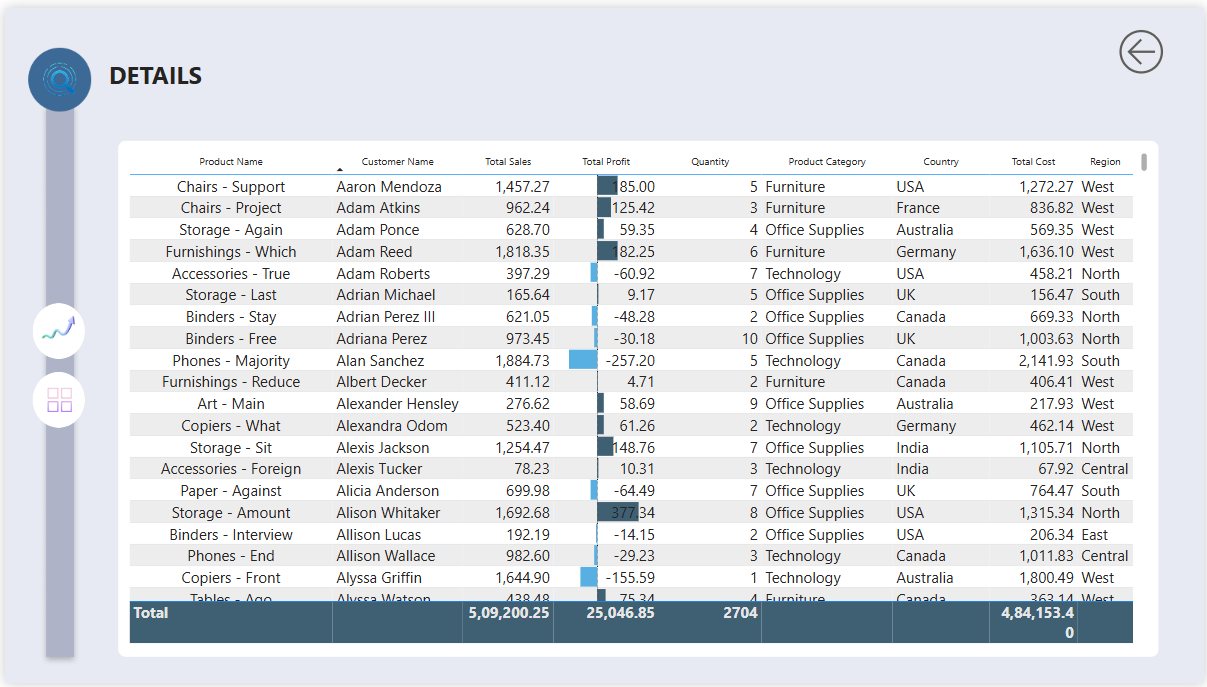

The page's visual inventory and layout, read from the dashboard file:
{"tool":"powerbi","page":{"name":"Details","canvas":[1600,900],"ordinal":3},"visuals":[{"type":"tableEx","fields":{"Values":["large_sample_sales_data.Product Name","large_sample_sales_data.Customer Name","large_sample_sales_data.Total Sales","large_sample_sales_data.Total Profit","Sum(large_sample_sales_data.Quantity)","large_sample_sales_data.Product Category","large_sample_sales_data.Country","large_sample_sales_data.Total Cost","large_sample_sales_data.Region"]},"box":[160,188.3,1368.3,663.3],"z":0},{"type":"shape","box":[36.7,393.3,70,75],"z":0,"group":"g1"},{"type":"textbox","box":[133.3,61.7,470,65],"z":1000},{"type":"actionButton","box":[1478.3,21.7,73.3,73.3],"z":2000},{"type":"group","id":"g1","title":"Group 1","box":[36.7,393.3,70,75],"z":2001},{"type":"image","box":[26.7,386.7,88.3,88.3],"z":2002},{"type":"shape","box":[36.7,485,70,75],"z":2004},{"type":"image","box":[41.7,501.7,61.7,41.7],"z":2005},{"type":"actionButton","box":[33.3,393.3,73.3,75],"z":2006},{"type":"actionButton","box":[35,485,73.3,75],"z":2007}]}

Visuals, with their boxes on the page's 1600x900 design canvas (x1, y1, x2, y2). These are canvas units, not pixel positions in the 1207x687 screenshot, which may show the page scaled, cropped or inside an application window:
tableEx - large_sample_sales_data.Product Name x large_sample_sales_data.Customer Name: rect(160, 188, 1528, 852)
shape: rect(37, 393, 107, 468)
textbox: rect(133, 62, 603, 127)
actionButton: rect(1478, 22, 1552, 95)
"Group 1" group: rect(37, 393, 107, 468)
image: rect(27, 387, 115, 475)
shape: rect(37, 485, 107, 560)
image: rect(42, 502, 103, 543)
actionButton: rect(33, 393, 107, 468)
actionButton: rect(35, 485, 108, 560)
